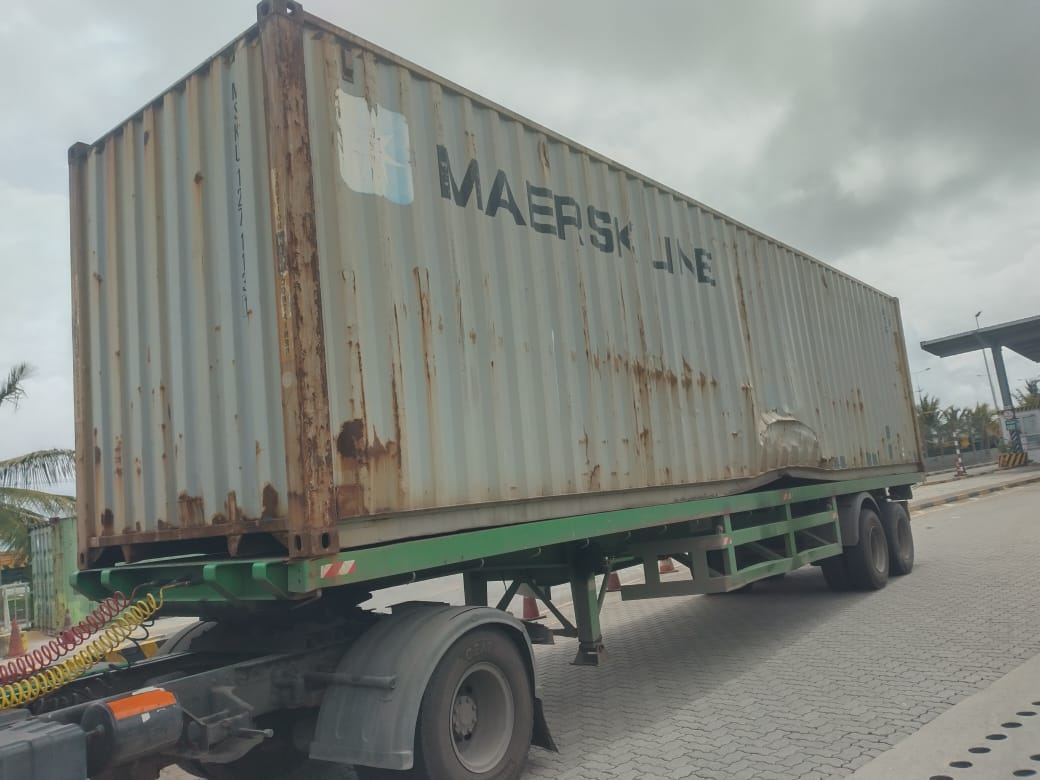bulged: (735, 398, 854, 458)
rust: (604, 343, 749, 401), (335, 403, 420, 490), (406, 258, 458, 377)
